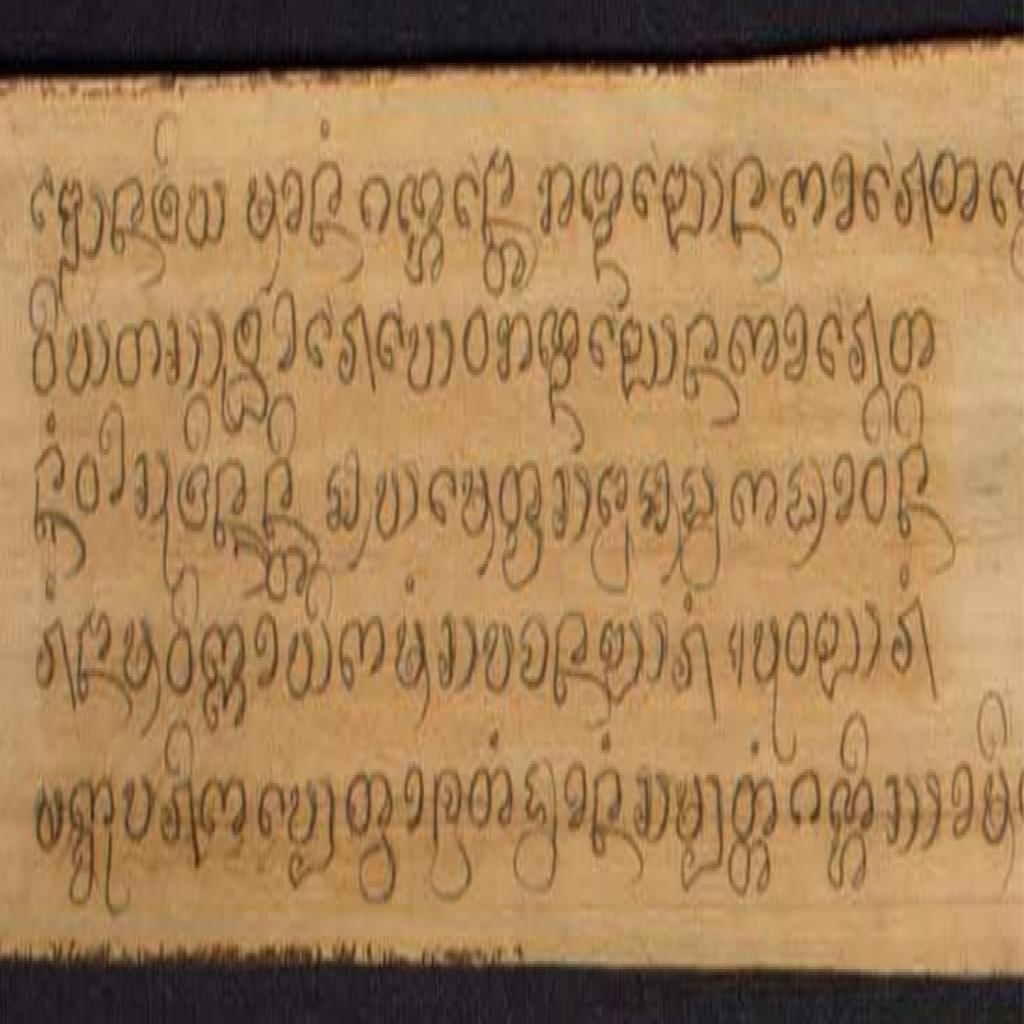LN032: (285, 613, 336, 710)
